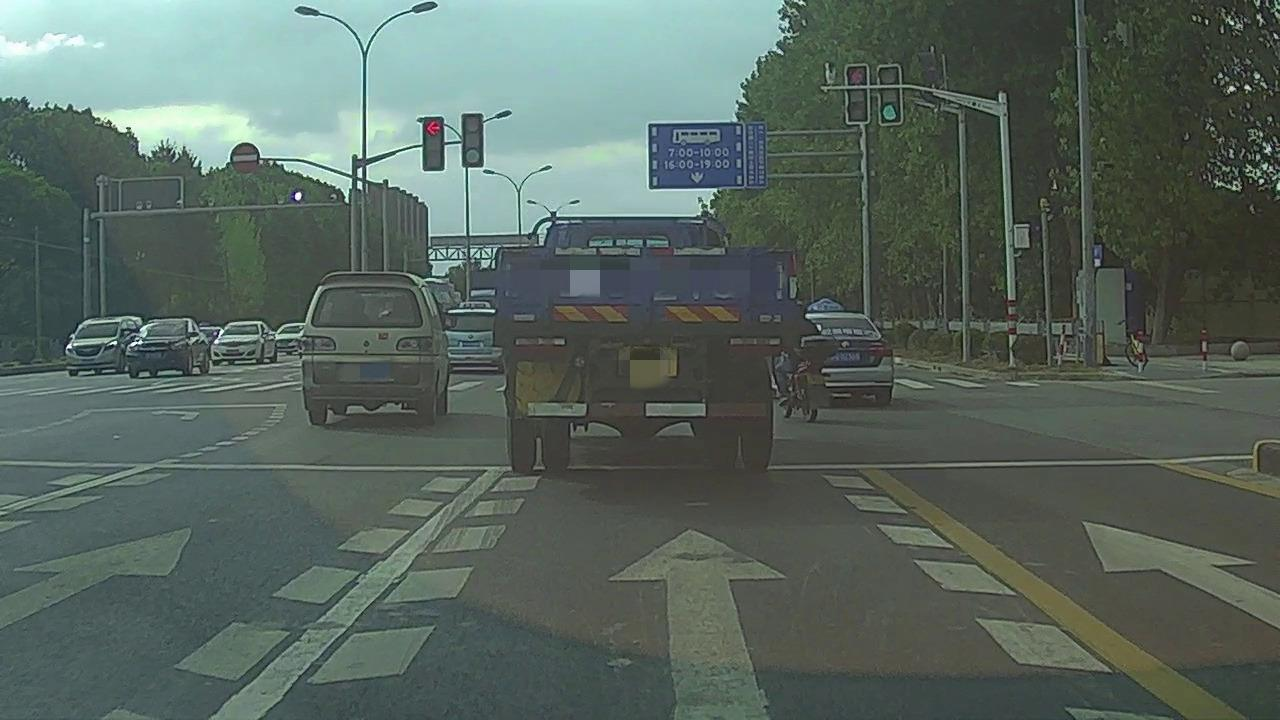traffic_light: (877, 66, 901, 124), (846, 65, 867, 123), (421, 118, 442, 170), (462, 115, 481, 165)
